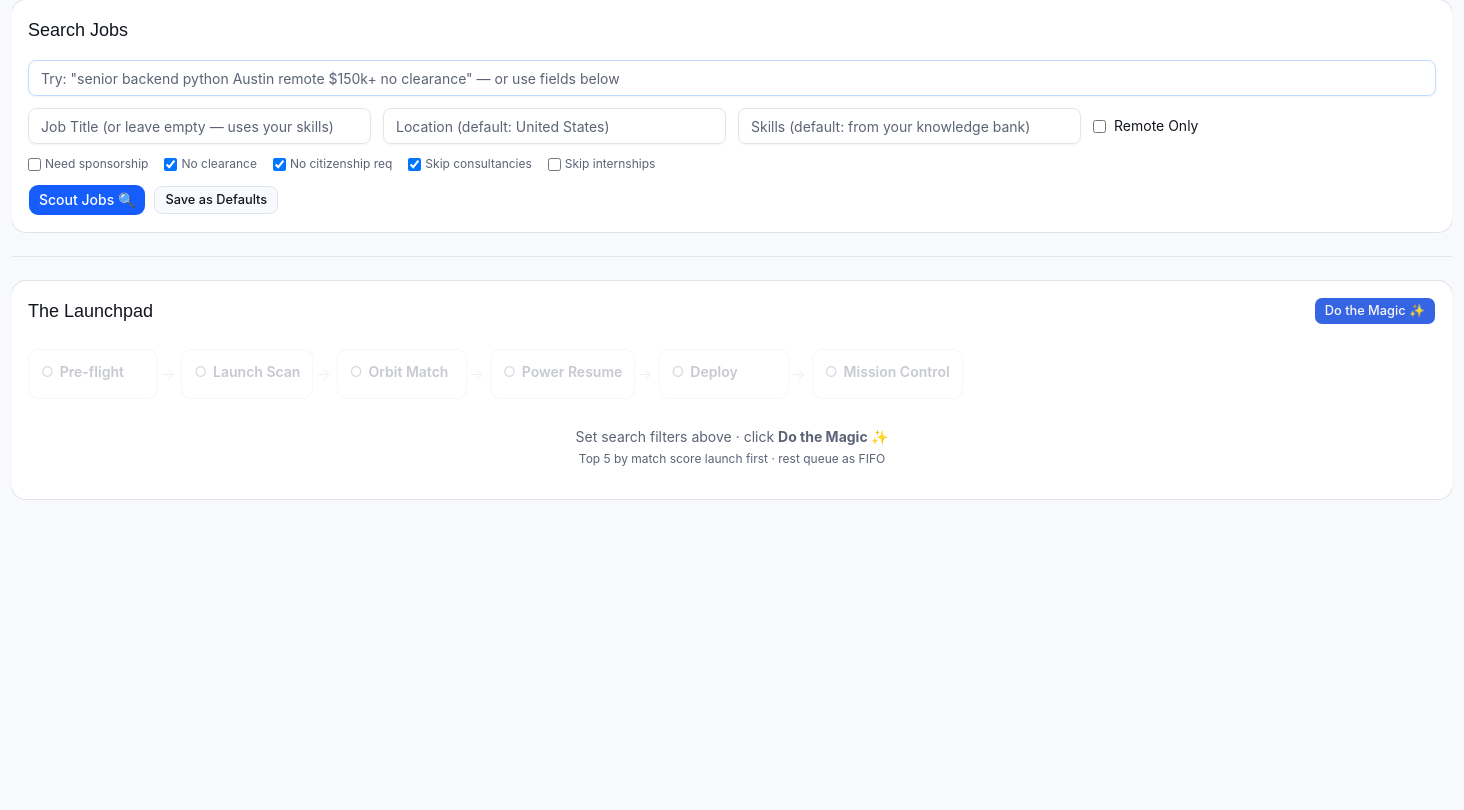
Test: Workflow: Scout jobs and match › scout jobs renders results, then match-all updates scores in sorted order
Click the button "Scout Jobs 🔍": (87, 200) [28, 184, 146, 216]
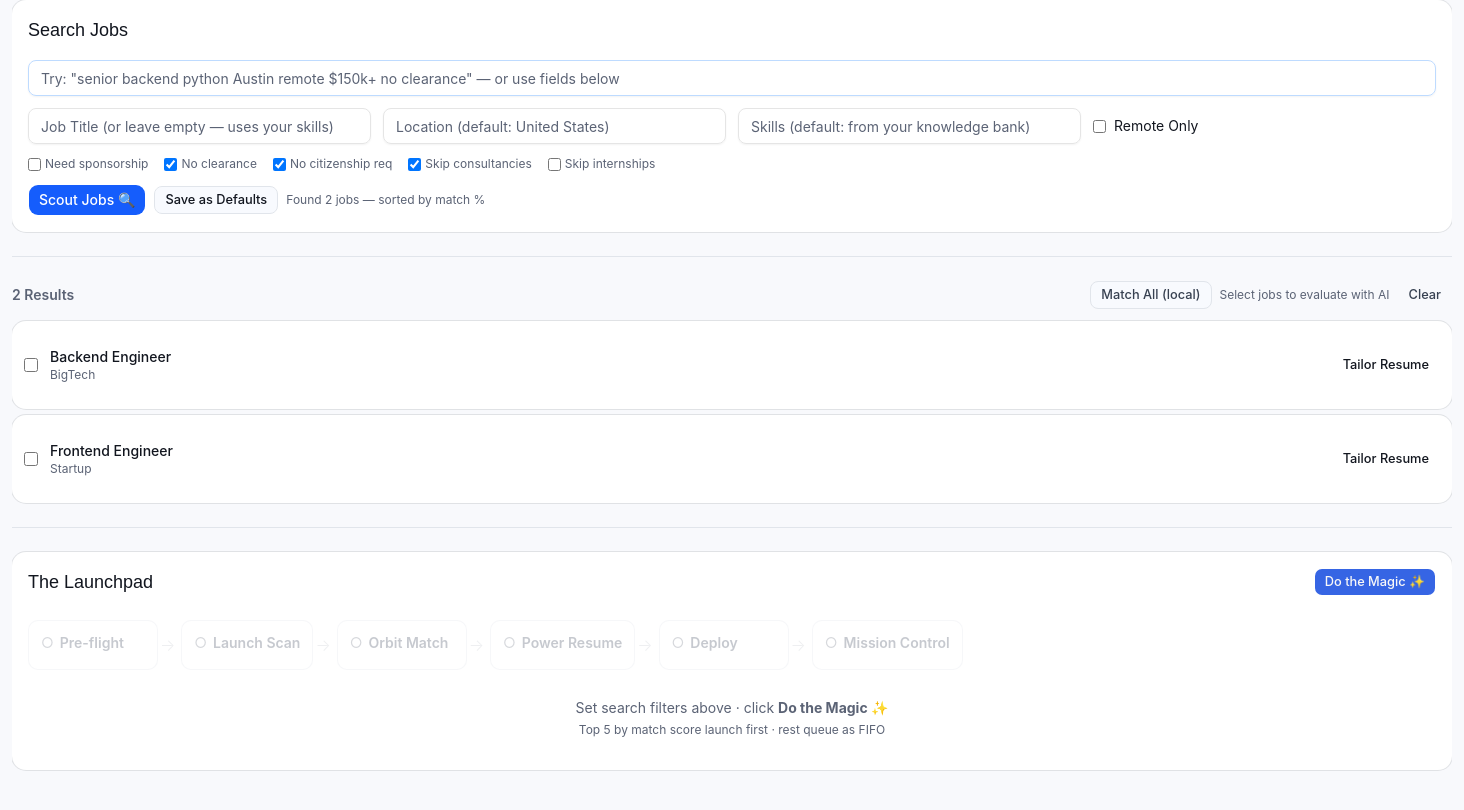
Expected: the text "Backend Engineer" is shown, [50, 347, 171, 367]
Expected: the text "Frontend Engineer" is shown, [50, 441, 173, 461]
Click the button "Match All (local)": (1151, 295) [1090, 281, 1212, 309]
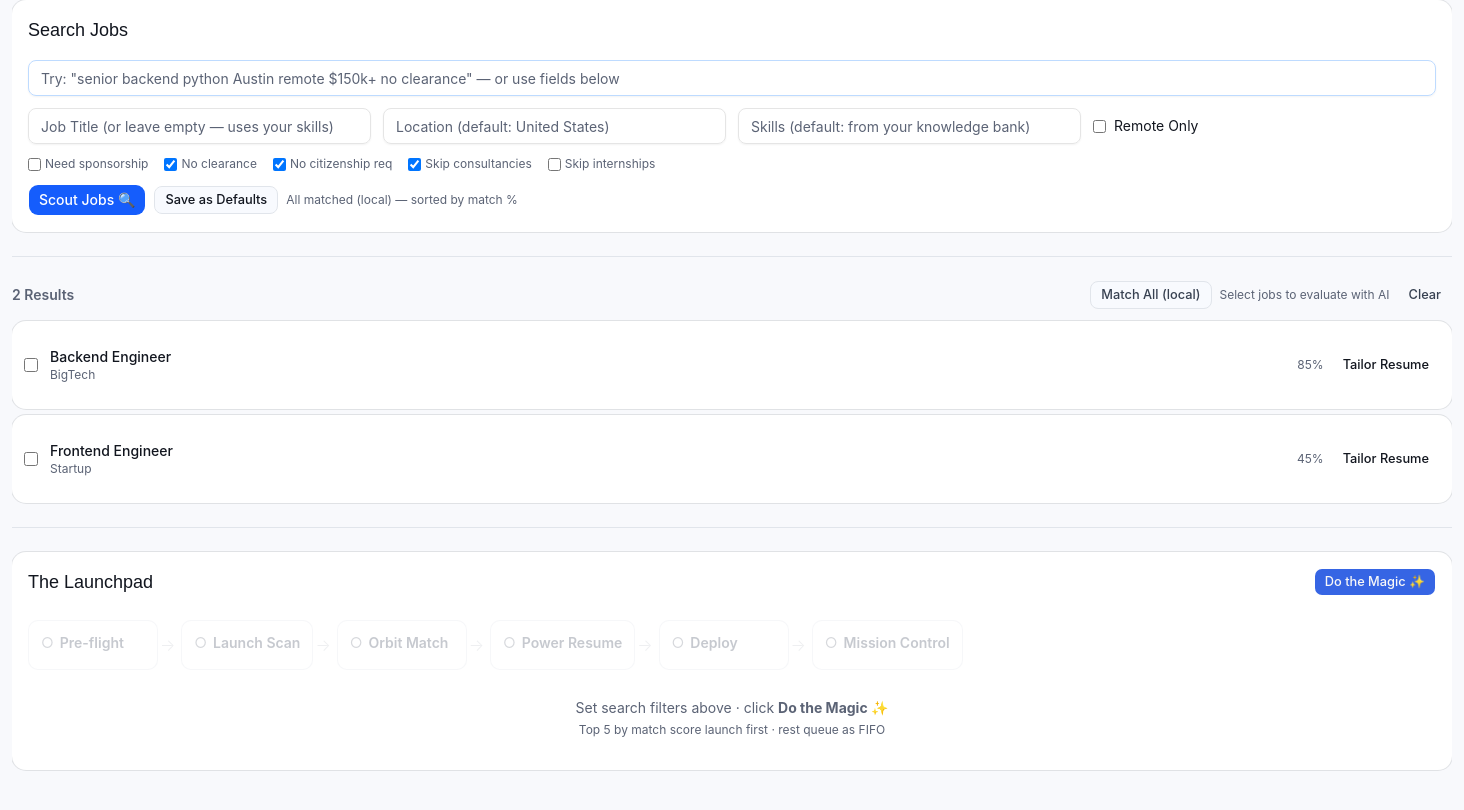
Expected: the text "85%" is shown, [1297, 357, 1324, 373]
Expected: the text "45%" is shown, [1297, 451, 1324, 467]
